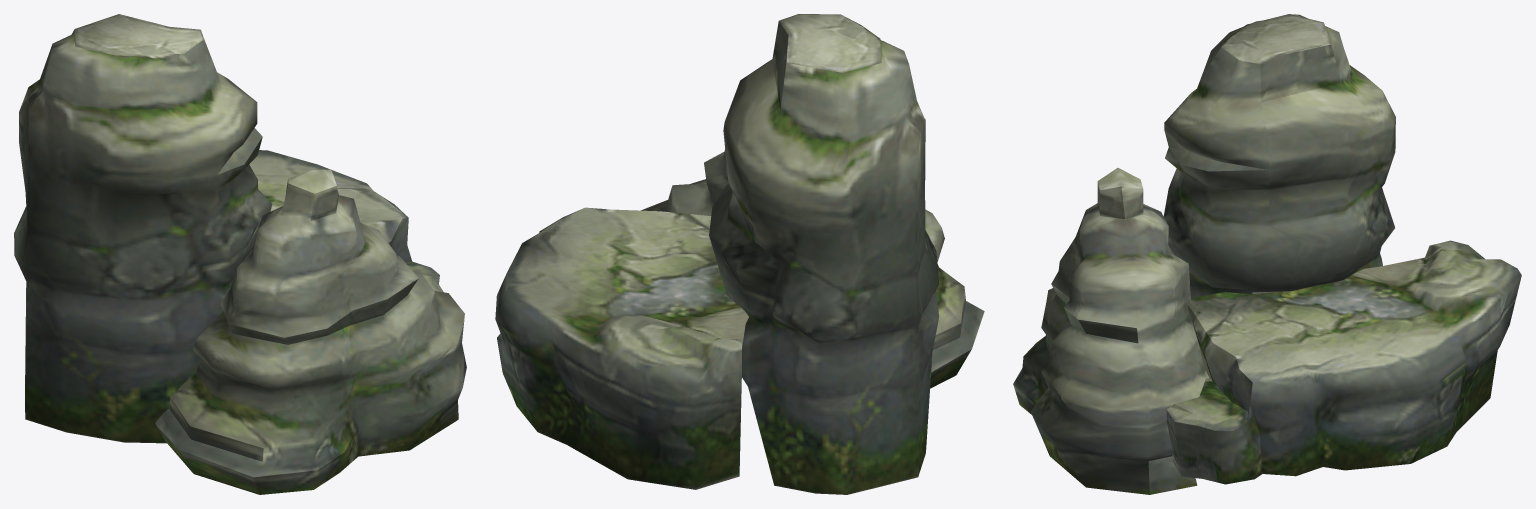
Rendered from 1005_Item_shitou_2.FBX.
3 renders of one model, left to right at view 1: azimuth 30°, elevation 25°; view 2: azimuth 150°, elevation 25°; view 3: azimuth 270°, elevation 25°, orthographic. The views are drawn at different scales.
Visible parts, largest first — view 1: 1005_Item_shitou_2; view 2: 1005_Item_shitou_2; view 3: 1005_Item_shitou_2.
Boxes of the visible parts, box(x1,y1,x2,y2) form: 1005_Item_shitou_2: box(14, 14, 466, 494); 1005_Item_shitou_2: box(495, 14, 984, 494); 1005_Item_shitou_2: box(1013, 14, 1521, 494).
Size of the model in its own units: 256 by 243 by 319.
